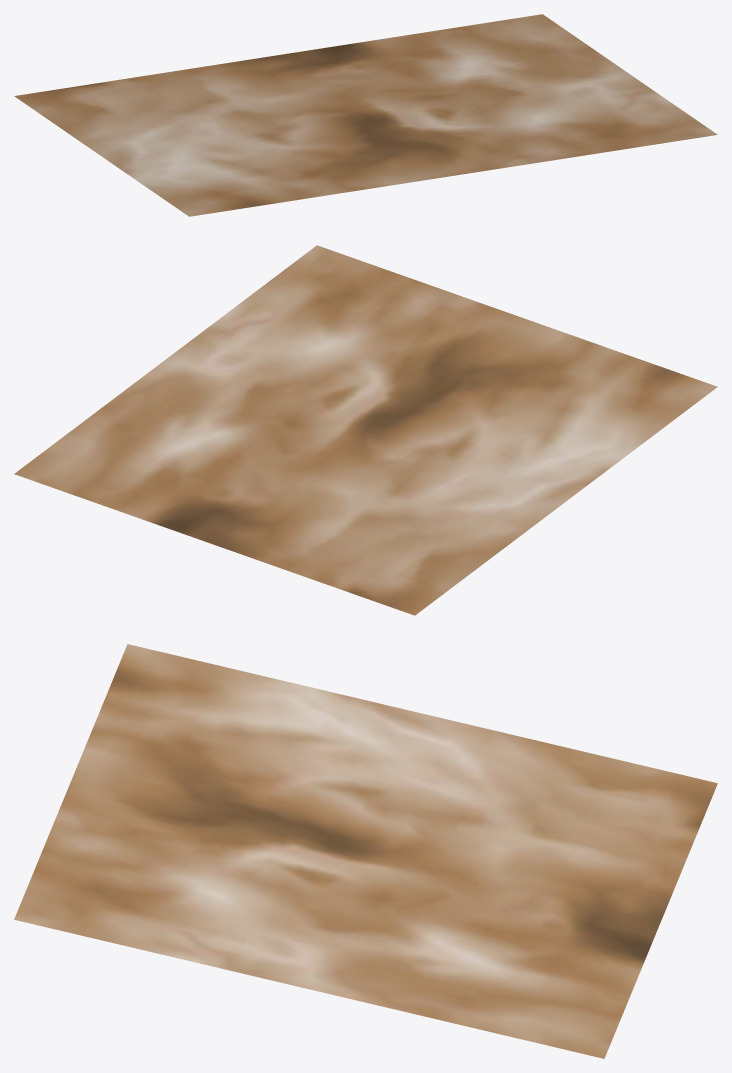
File: pref_fxui_BattlePass_bg_sand_01.fbx
3 renders of one model, top to bottom at view 1: azimuth 30°, elevation 25°; view 2: azimuth 150°, elevation 25°; view 3: azimuth 270°, elevation 25°, orthographic. The views are drawn at different scales.
Parts seen in each view (by area): view 1: GameObject (2); view 2: GameObject (2); view 3: GameObject (2).
Part boxes in pixels (<box>): GameObject (2): <box>14,14,717,216</box>; GameObject (2): <box>14,245,717,615</box>; GameObject (2): <box>14,644,717,1058</box>.
Bounding box in the file's own units: 1752 × 245 × 1633.
